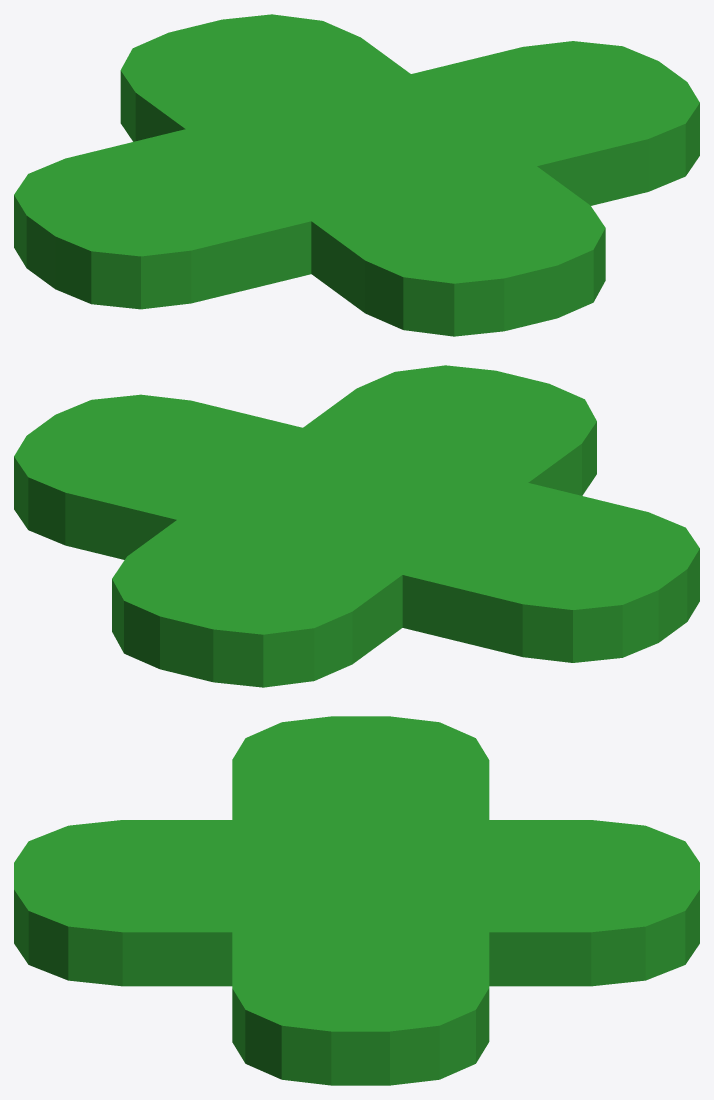
The model's file is Health.fbx.
3 views of the same model, one above another, from view 1: azimuth 30°, elevation 25°; view 2: azimuth 150°, elevation 25°; view 3: azimuth 270°, elevation 25° (orthographic). The views are drawn at different scales.
Visible parts, largest first — view 1: Health; view 2: Health; view 3: Health.
Boxes of the visible parts, x1,y1,x2,y2 form: Health: (14,14,699,336); Health: (14,365,699,687); Health: (14,716,699,1085).
Size of the model in its own units: 25 by 2 by 23.
